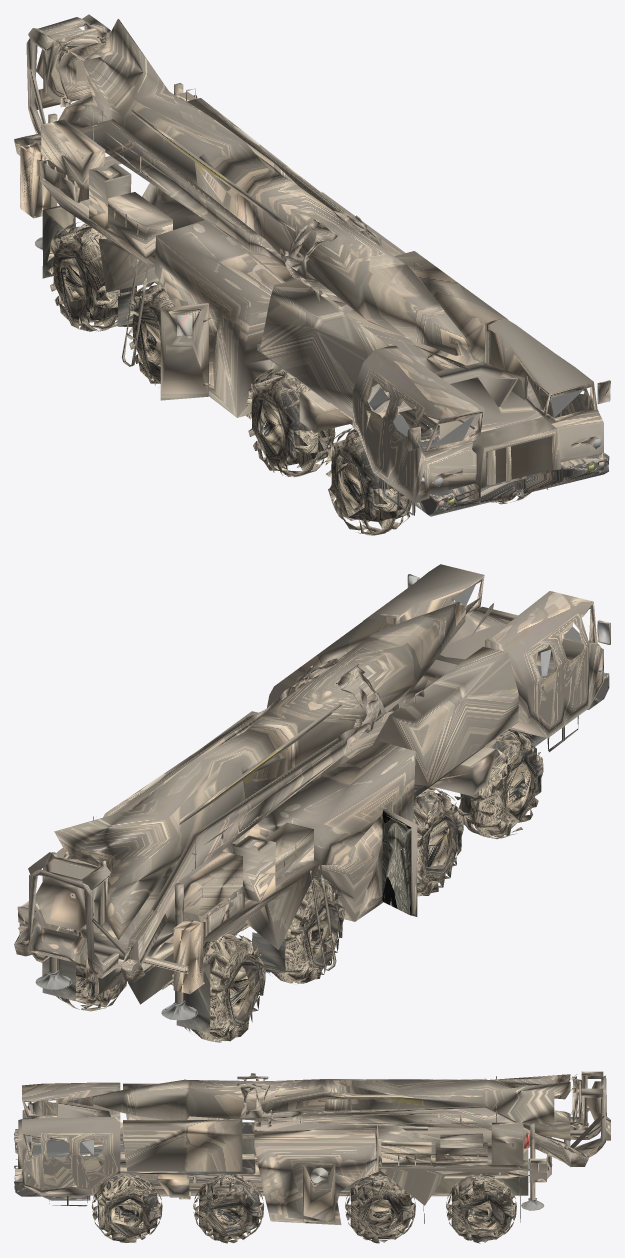
File: tactical_missile_scud.glb
3 renders of one model, top to bottom at view 1: azimuth 30°, elevation 25°; view 2: azimuth 150°, elevation 25°; view 3: azimuth 270°, elevation 25°, orthographic. The views are drawn at different scales.
Parts seen in each view (by area): view 1: Object_7, Object_14, Object_20, Object_8, Object_4, Object_19, Object_6, Object_2, Object_16, Object_3, Object_10, Object_15 (+3 smaller); view 2: Object_7, Object_20, Object_14, Object_8, Object_4, Object_6, Object_19, Object_16, Object_10, Object_2, Object_15, Object_18 (+6 smaller); view 3: Object_7, Object_20, Object_14, Object_8, Object_4, Object_6, Object_16, Object_10, Object_3, Object_18, Object_2, Object_15 (+5 smaller).
Part boxes in pixels (<box>): Object_7: <box>58,18,481,362</box>; Object_14: <box>352,318,603,503</box>; Object_20: <box>47,221,531,535</box>; Object_8: <box>154,192,405,417</box>; Object_4: <box>260,251,507,416</box>; Object_19: <box>20,92,196,258</box>; Object_6: <box>14,88,471,370</box>; Object_2: <box>121,259,610,488</box>; Object_16: <box>26,17,211,400</box>; Object_3: <box>257,343,609,516</box>; Object_10: <box>40,180,241,292</box>; Object_15: <box>28,14,183,207</box>; Object_7: <box>54,597,480,939</box>; Object_20: <box>55,729,543,1042</box>; Object_14: <box>363,564,603,738</box>; Object_8: <box>202,711,415,921</box>; Object_4: <box>267,618,518,786</box>; Object_6: <box>14,603,493,982</box>; Object_19: <box>42,822,313,993</box>; Object_16: <box>26,809,417,978</box>; Object_10: <box>80,843,321,970</box>; Object_2: <box>17,574,610,970</box>; Object_15: <box>18,851,188,1003</box>; Object_18: <box>227,762,531,1018</box>; Object_7: <box>67,1074,570,1140</box>; Object_20: <box>91,1173,516,1243</box>; Object_14: <box>21,1082,120,1195</box>; Object_8: <box>254,1120,378,1224</box>; Object_4: <box>123,1083,242,1171</box>; Object_6: <box>67,1073,597,1166</box>; Object_16: <box>303,1075,610,1222</box>; Object_10: <box>378,1125,528,1205</box>; Object_3: <box>14,1122,261,1206</box>; Object_18: <box>110,1199,495,1228</box>; Object_2: <box>18,1102,552,1197</box>; Object_15: <box>379,1071,603,1199</box>.
Size of the model in its own units: 2.31 by 2.24 by 8.16.
Materials: 19 (19 with a texture image).
